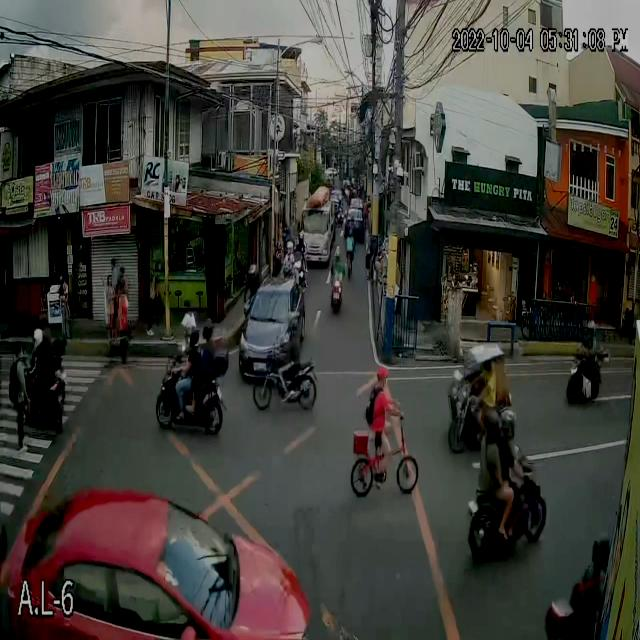Full-Faced: (588, 532, 609, 570), (485, 403, 499, 442), (285, 310, 301, 338), (498, 409, 513, 437), (199, 315, 214, 341), (583, 319, 597, 345), (30, 323, 43, 349), (186, 322, 198, 348), (331, 245, 343, 264), (297, 231, 306, 247), (286, 242, 296, 256), (345, 226, 353, 242)
Not-Wearing-Helmet: (375, 366, 390, 387)
